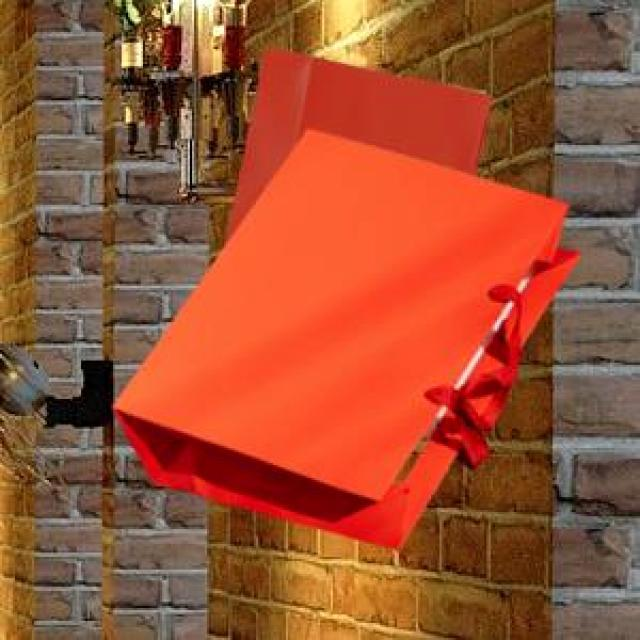Paper_Bag: (110, 127, 580, 545), (222, 46, 488, 242)
